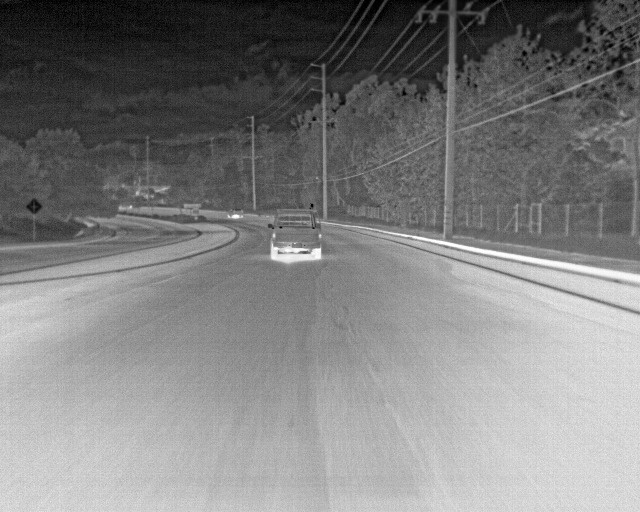vehicle: (270, 208, 323, 261)
